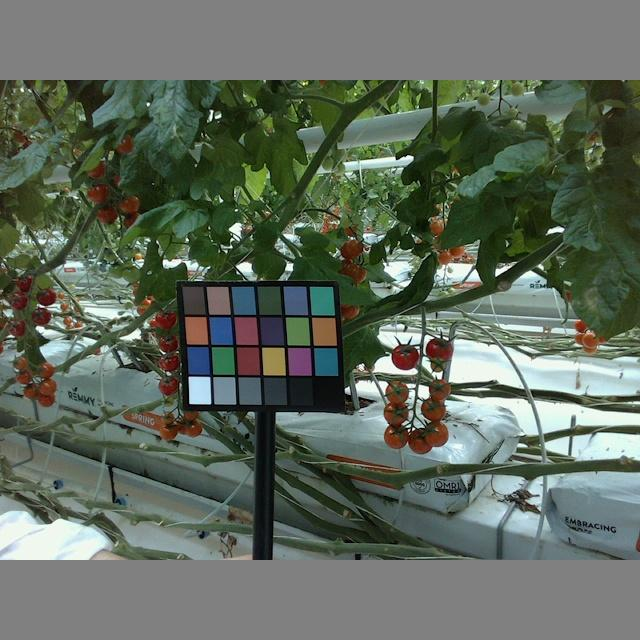pink: (422, 419, 449, 447), (421, 399, 449, 421), (385, 379, 411, 402), (385, 427, 411, 450), (410, 428, 433, 454), (425, 378, 452, 400), (383, 406, 410, 423), (37, 361, 56, 378), (35, 381, 61, 393), (36, 393, 58, 406), (12, 371, 30, 384), (14, 354, 28, 369), (21, 385, 35, 400), (428, 219, 442, 234), (439, 248, 450, 266), (451, 245, 464, 255)
red: (394, 342, 418, 369), (429, 334, 451, 361), (153, 307, 176, 330), (83, 182, 107, 202), (115, 135, 135, 158), (157, 333, 180, 353), (346, 261, 366, 283), (159, 374, 179, 394), (340, 240, 363, 257), (38, 285, 56, 306), (156, 354, 180, 369), (10, 294, 30, 312), (85, 162, 106, 179), (97, 206, 118, 223), (8, 316, 25, 337), (17, 274, 34, 291)
